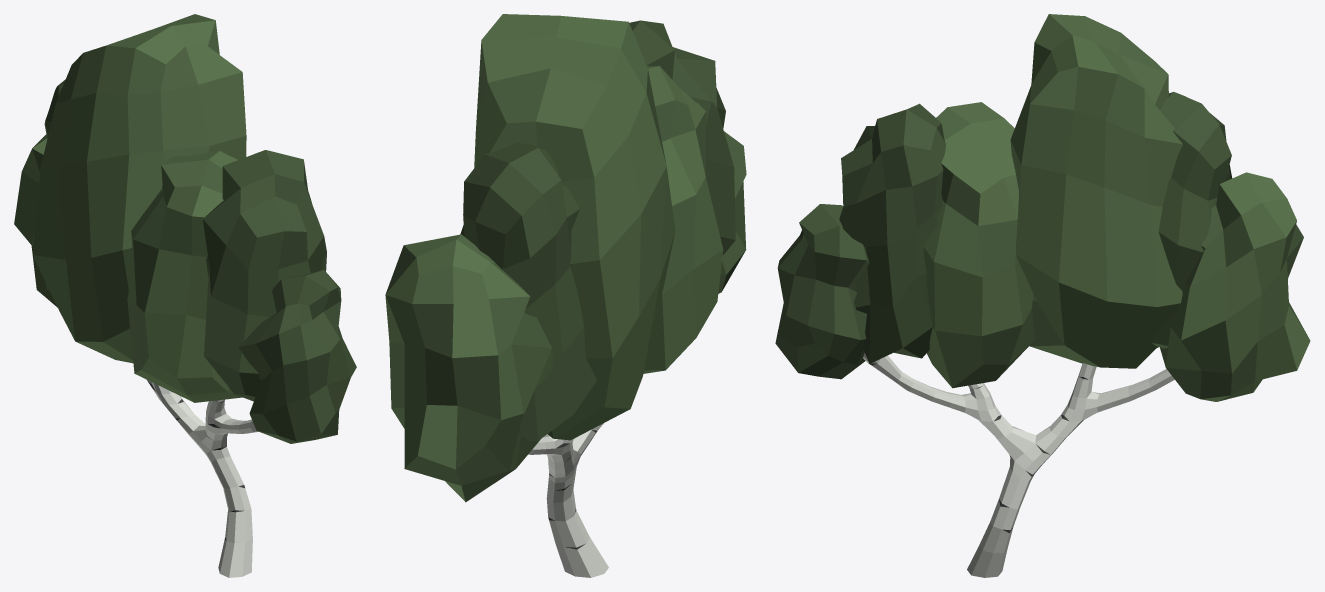
File: BirchTree_4.glb
The picture shows the model from 3 angles, left to right: view 1: azimuth 30°, elevation 25°; view 2: azimuth 150°, elevation 25°; view 3: azimuth 270°, elevation 25°; orthographic projection. The views are drawn at different scales.
Visible parts, largest first — view 1: BirchTree_4; view 2: BirchTree_4; view 3: BirchTree_4.
Boxes of the visible parts, <box> form: BirchTree_4: <box>14,14,356,577</box>; BirchTree_4: <box>385,14,746,577</box>; BirchTree_4: <box>775,14,1310,577</box>.
Bounding box in the file's own units: 1.15 × 3.56 × 3.29.
